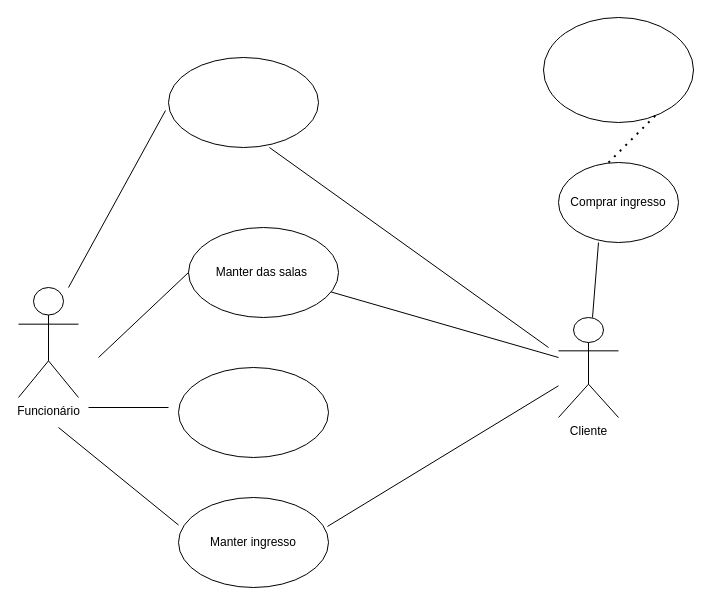
Some shapes in this 711 by 605 pixel diagram are drawn without their labels. Here are the shapes that lost their labels. From the top down, the box of each, then its label:
(542, 16, 694, 122): Gerar recibo com informações da sala, sessão e tipo do ingresso
(168, 56, 318, 148): Manter filmes
(178, 366, 328, 458): Limitação de ingressos disponíveis
